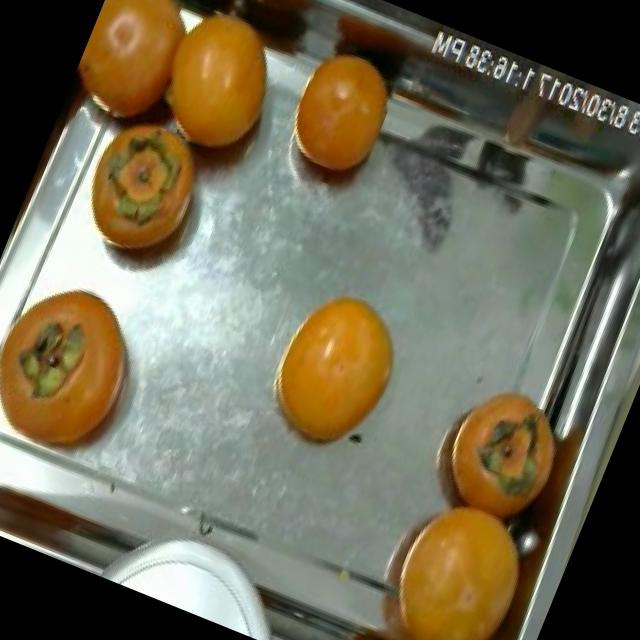Fruit: (0, 254, 175, 500), (332, 459, 554, 640), (54, 88, 239, 296), (248, 272, 424, 472), (127, 0, 312, 183), (264, 27, 418, 208)
